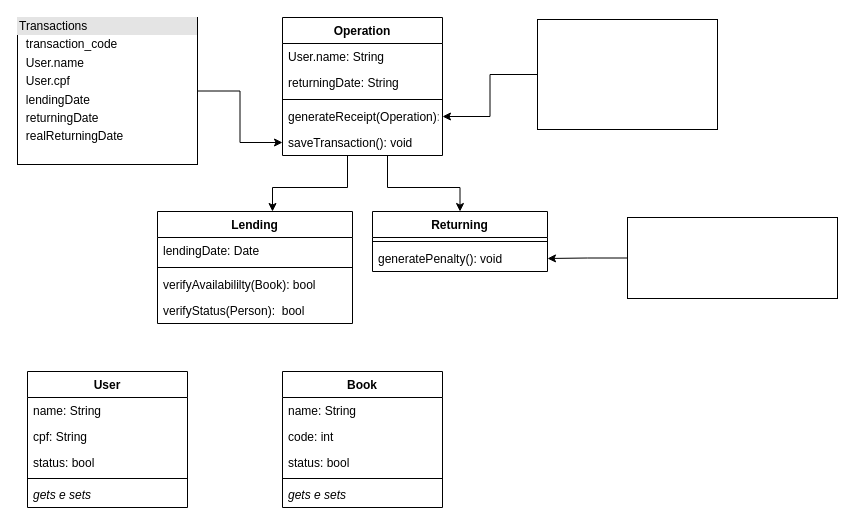
The diagram is 855 pixels wide and 528 high, and some of its shapes have lost their labels. The shapes that lost their labels are listed below. From the top down, each one's centre as x and y in pixels, then its label:
At [627,74]: "Receipts receipt_code User.name User.cpf Operation_type".
At [732,257]: "Penalties penalty_code penalty_duration".
